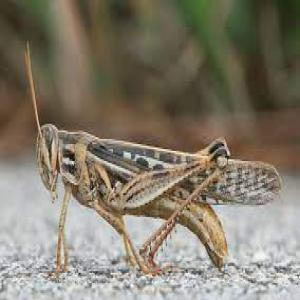locust: (29, 82, 289, 262)
